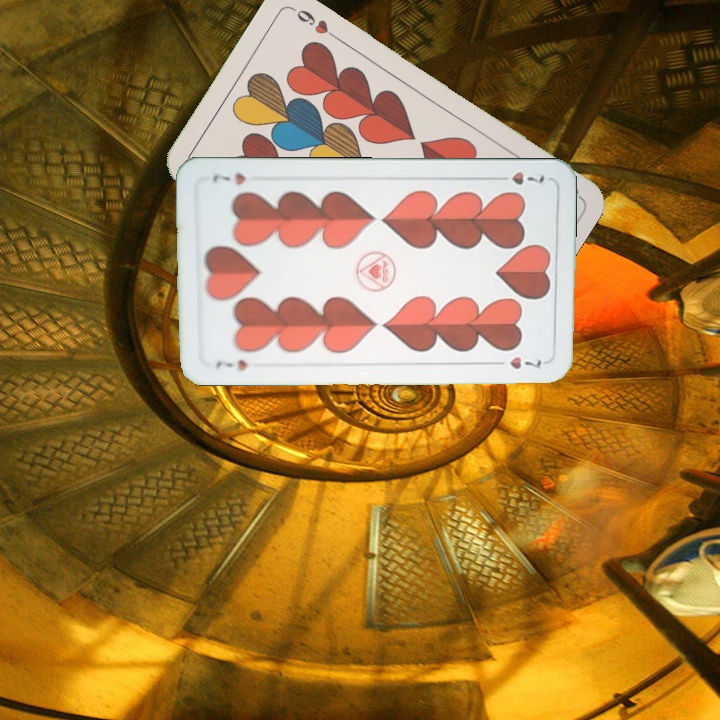H7: (491, 167, 547, 187), (211, 356, 250, 374)
